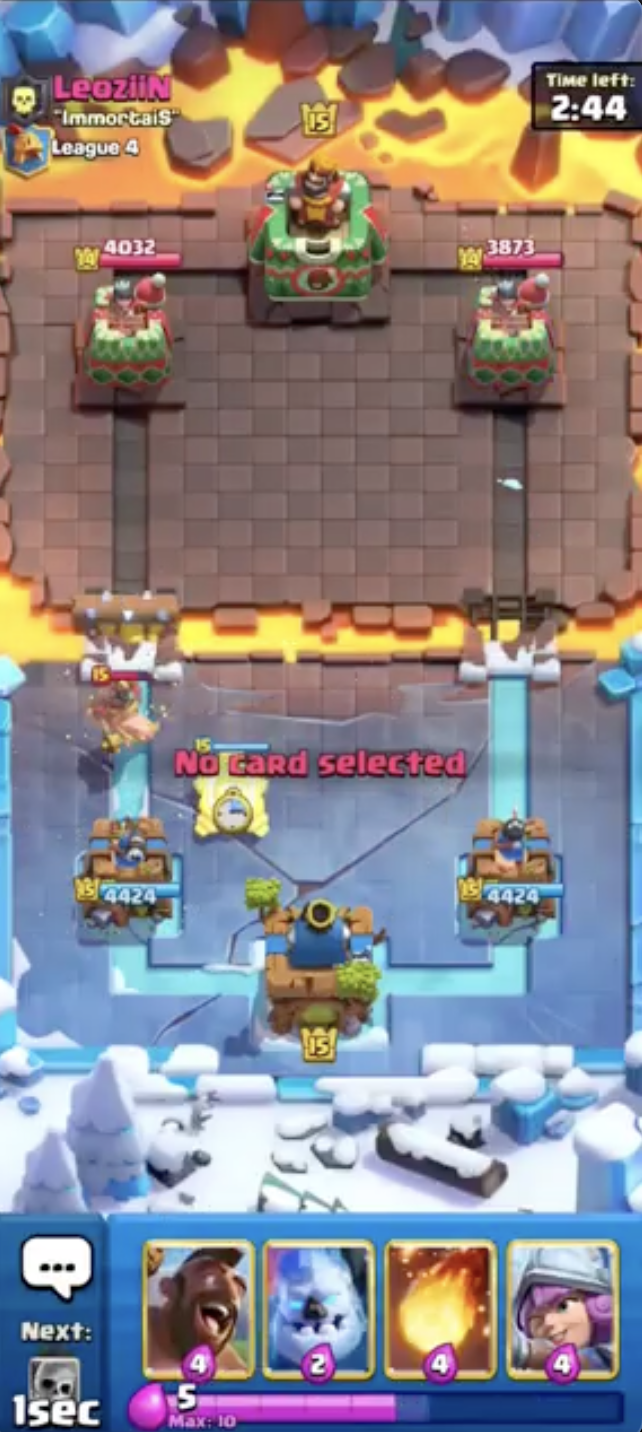cannon: (181, 730, 286, 856)
